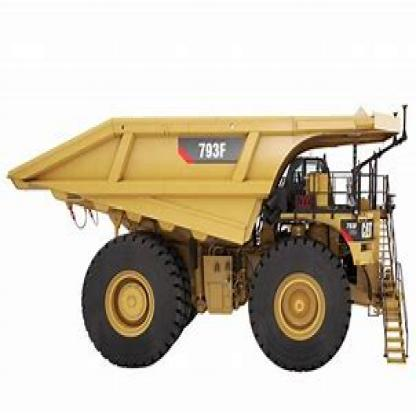dump_truck: (4, 97, 413, 372)
